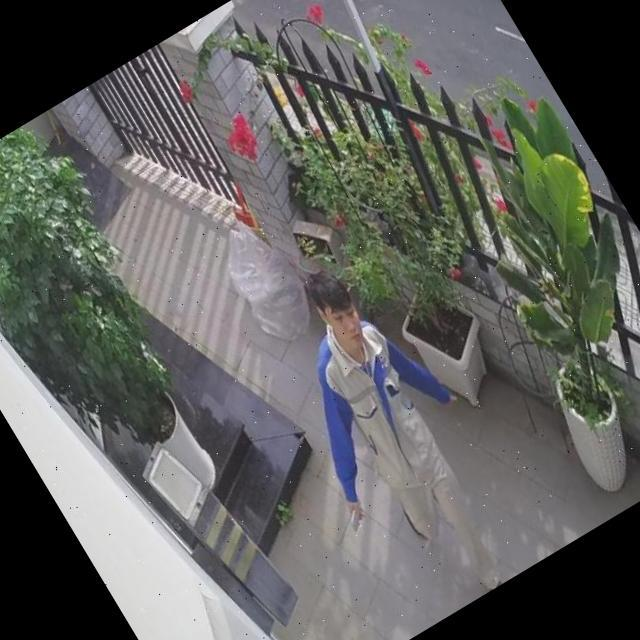person: (235, 242, 550, 631)
